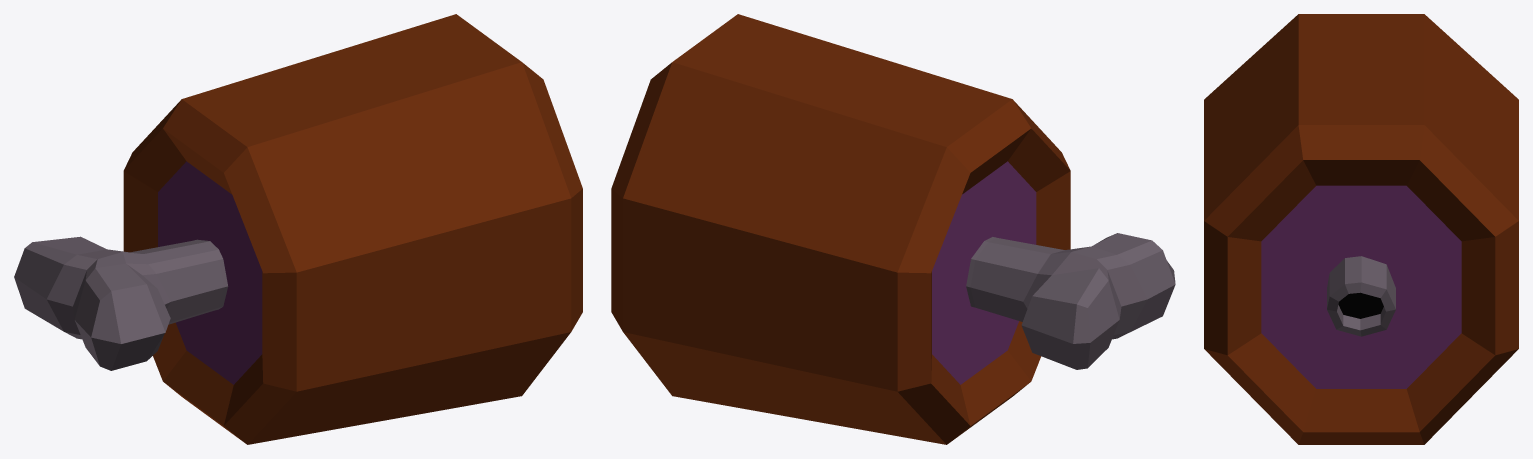
File: MESH_SlicedMeat.fbx
3 renders of one model, left to right at view 1: azimuth 30°, elevation 25°; view 2: azimuth 150°, elevation 25°; view 3: azimuth 270°, elevation 25°, orthographic. The views are drawn at different scales.
Parts seen in each view (by area): view 1: MESH_SlicedMeat; view 2: MESH_SlicedMeat; view 3: MESH_SlicedMeat.
Part boxes in pixels (bbox=[...]): MESH_SlicedMeat: bbox=[14, 14, 582, 444]; MESH_SlicedMeat: bbox=[611, 14, 1175, 444]; MESH_SlicedMeat: bbox=[1204, 14, 1518, 444].
Size of the model in its own units: 0.2929 by 0.188 by 0.1676.
